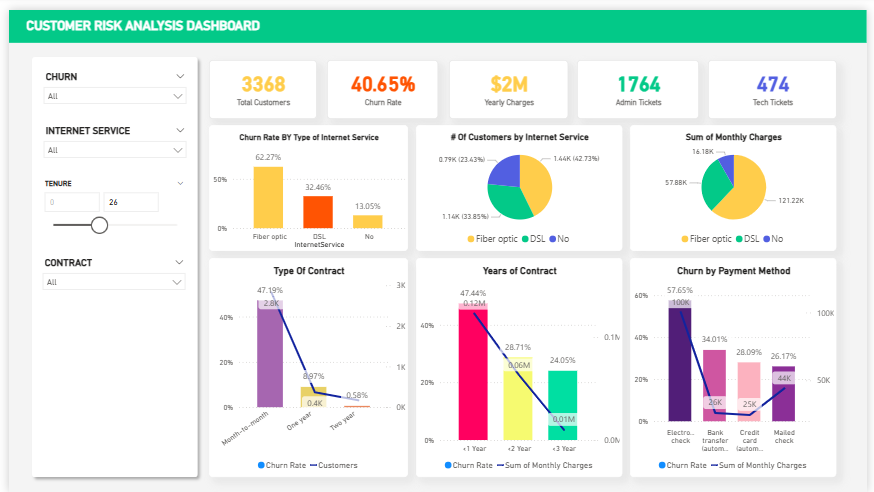

What the dashboard file says about the page in this screenshot:
{"tool":"powerbi","page":{"name":"Customer Risk Analysis","canvas":[1280,720],"ordinal":1},"visuals":[{"type":"shape","box":[0,0,1280,49],"z":0},{"type":"textbox","box":[21,8,438,33],"z":1000},{"type":"shape","box":[25,61,265,645],"z":2000},{"type":"slicer","fields":{"Values":["Churn.Churn"]},"box":[42,82,233,81],"z":3000},{"type":"slicer","fields":{"Values":["Churn.InternetService"]},"box":[42,163,233,81],"z":4000},{"type":"slicer","fields":{"Values":["Churn.tenure"]},"box":[41,244,233,97],"z":5000},{"type":"slicer","fields":{"Values":["Churn.Contract"]},"box":[41,360,233,81],"z":6000},{"type":"card","fields":{"Values":["Min(01 Churn-Dataset.customerID)"]},"box":[298,74,161,88],"z":7000},{"type":"card","fields":{"Values":["Churn.% Churn Rate"]},"box":[474,75,166,88],"z":8000},{"type":"card","fields":{"Values":["Sum(Churn.TotalCharges)"]},"box":[656,75,178,88],"z":9000},{"type":"card","fields":{"Values":["Sum(Churn.numAdminTickets)"]},"box":[848,75,182,88],"z":10000},{"type":"card","fields":{"Values":["Sum(Churn.numTechTickets)"]},"box":[1043,74,192,88],"z":11000},{"type":"columnChart","title":"Churn Rate BY Type of Internet Service","fields":{"Y":["Churn.% Churn Rate"],"Category":["Churn.InternetService"]},"box":[298,172,297,188],"z":12000},{"type":"pieChart","title":"# Of Customers by Internet Service","fields":{"Y":["CountNonNull(Churn.customerID)"],"Category":["Churn.InternetService"]},"box":[607,172,308,188],"z":13000},{"type":"pieChart","title":"Sum of Monthly Charges","fields":{"Category":["Churn.InternetService"],"Y":["Sum(Churn.MonthlyCharges)"]},"box":[927,172,308,188],"z":14000},{"type":"lineStackedColumnComboChart","title":"Type Of Contract","fields":{"Y2":["CountNonNull(Churn.customerID)"],"Y":["Churn.% Churn Rate"],"Category":["Churn.Contract"]},"box":[298,370,297,327],"z":15000},{"type":"lineStackedColumnComboChart","title":"Years of Contract","fields":{"Y":["Churn.% Churn Rate"],"Y2":["Sum(Churn.MonthlyCharges)"],"Category":["Churn.Tenure(in years)"]},"box":[607,370,308,327],"z":16000},{"type":"lineStackedColumnComboChart","title":"Churn by Payment Method","fields":{"Y":["Churn.% Churn Rate"],"Y2":["Sum(Churn.MonthlyCharges)"],"Category":["Churn.PaymentMethod"]},"box":[927,370,308,327],"z":17000}]}

Visuals, with their boxes in screenshot pixels (x1, y1, x2, y2), scaled from the page's 1280x720 canvas onto the 874x492 screenshot:
shape: (x1=0, y1=0, x2=873, y2=33)
textbox: (x1=14, y1=5, x2=313, y2=28)
shape: (x1=17, y1=42, x2=198, y2=482)
slicer - Churn.Churn: (x1=29, y1=56, x2=188, y2=111)
slicer - Churn.InternetService: (x1=29, y1=111, x2=188, y2=167)
slicer - Churn.tenure: (x1=28, y1=167, x2=187, y2=233)
slicer - Churn.Contract: (x1=28, y1=246, x2=187, y2=301)
card - Min(01 Churn-Dataset.customerID): (x1=203, y1=51, x2=313, y2=111)
card - Churn.% Churn Rate: (x1=324, y1=51, x2=437, y2=111)
card - Sum(Churn.TotalCharges): (x1=448, y1=51, x2=569, y2=111)
card - Sum(Churn.numAdminTickets): (x1=579, y1=51, x2=703, y2=111)
card - Sum(Churn.numTechTickets): (x1=712, y1=51, x2=843, y2=111)
"Churn Rate BY Type of Internet Service" columnChart: (x1=203, y1=118, x2=406, y2=246)
"# Of Customers by Internet Service" pieChart: (x1=414, y1=118, x2=625, y2=246)
"Sum of Monthly Charges" pieChart: (x1=633, y1=118, x2=843, y2=246)
"Type Of Contract" lineStackedColumnComboChart: (x1=203, y1=253, x2=406, y2=476)
"Years of Contract" lineStackedColumnComboChart: (x1=414, y1=253, x2=625, y2=476)
"Churn by Payment Method" lineStackedColumnComboChart: (x1=633, y1=253, x2=843, y2=476)
